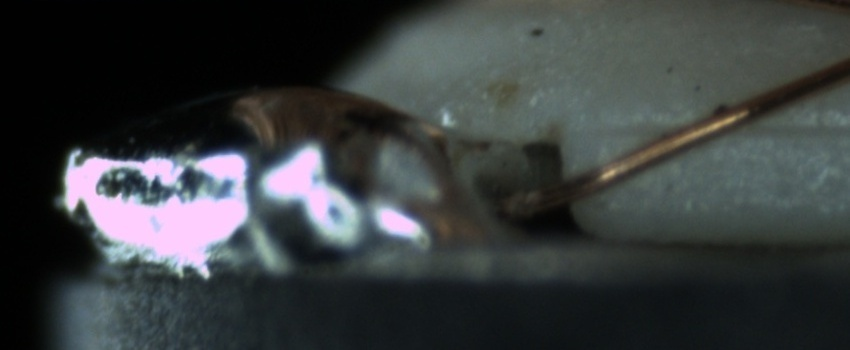DL: (606, 93, 848, 162)
